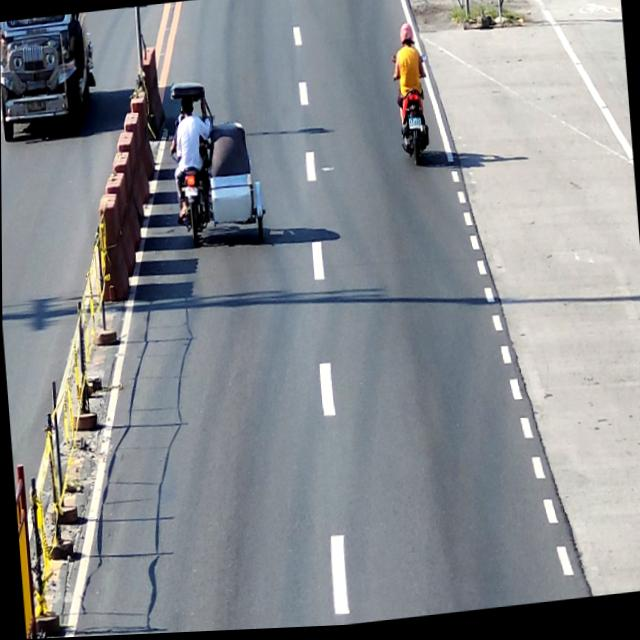Jeep: (0, 12, 99, 142)
License-Plate: (26, 98, 46, 113), (408, 120, 421, 132), (183, 188, 197, 198)
Motorcycle: (391, 52, 435, 173)
Tricycle: (165, 74, 268, 256)
